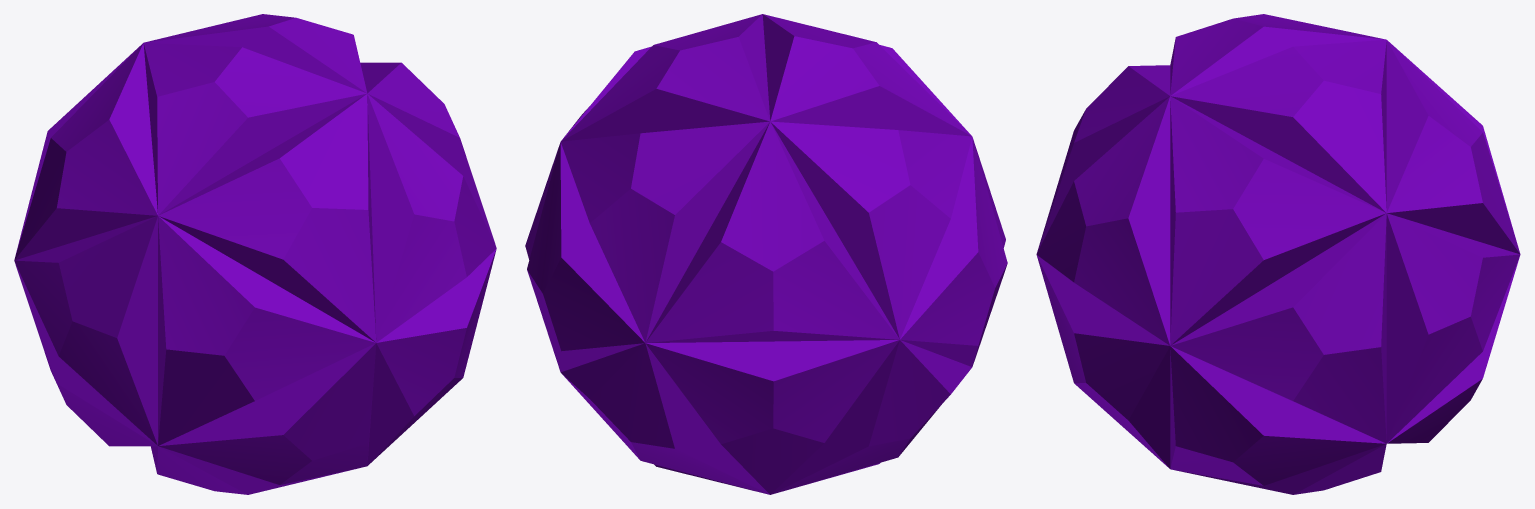
Rendered from Mine3.fbx.
3 renders of one model, left to right at view 1: azimuth 30°, elevation 25°; view 2: azimuth 150°, elevation 25°; view 3: azimuth 270°, elevation 25°, orthographic.
Parts seen in each view (by area): view 1: pPlatonic1; view 2: pPlatonic1; view 3: pPlatonic1.
Boxes of the visible parts, left/top/right/bottom form: pPlatonic1: left=14, top=14, right=496, bottom=494; pPlatonic1: left=525, top=14, right=1007, bottom=494; pPlatonic1: left=1036, top=14, right=1520, bottom=494.
Bounding box in the file's own units: 1.96 × 1.99 × 2.
